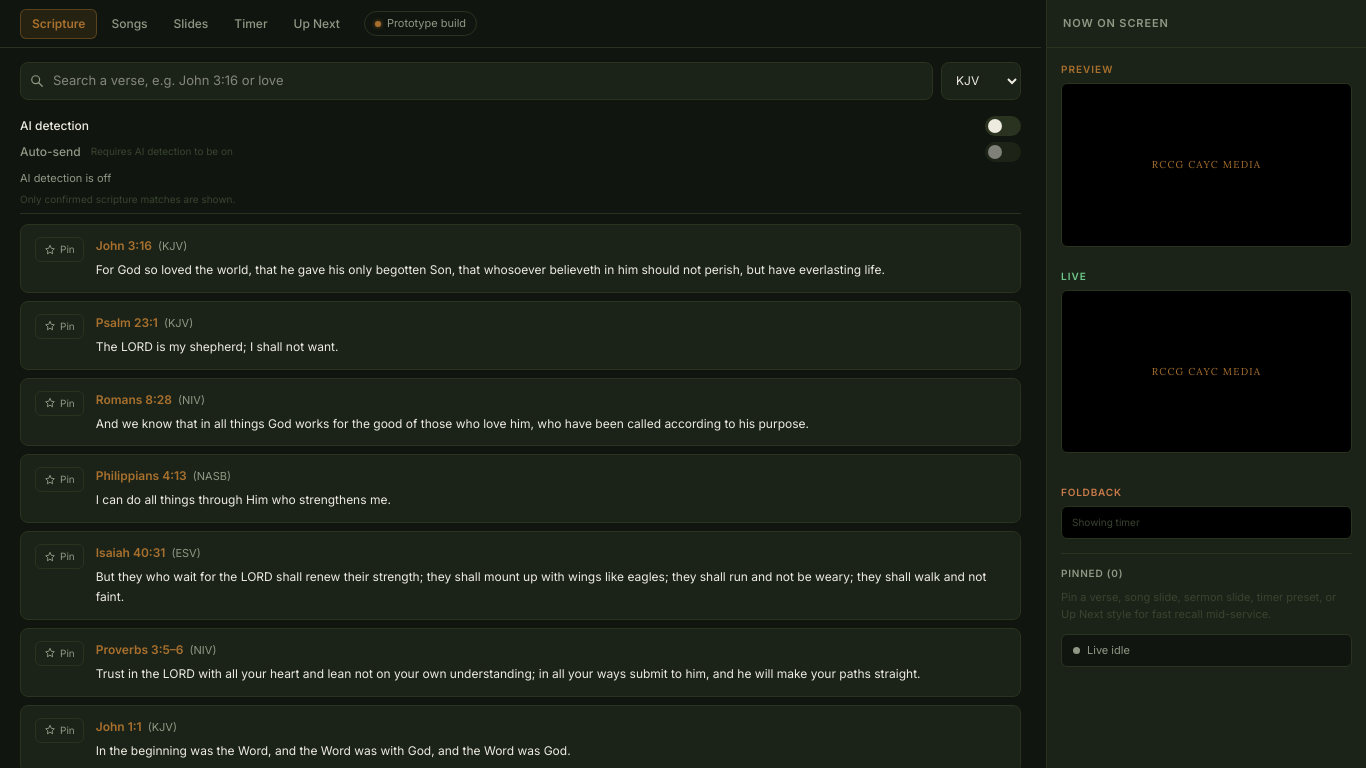
Scenario: OperatorScreen Scripture integration (real component, not just the hook) › keyword search surfaces results from imported Scripture Engine data, not just the old hardcoded sample list
Type "operator test verse three" into the field with placeholder "Search a verse, e.g. John 3:16 or love" at [476, 81], box top-left (20, 62), bottom-right (933, 100)
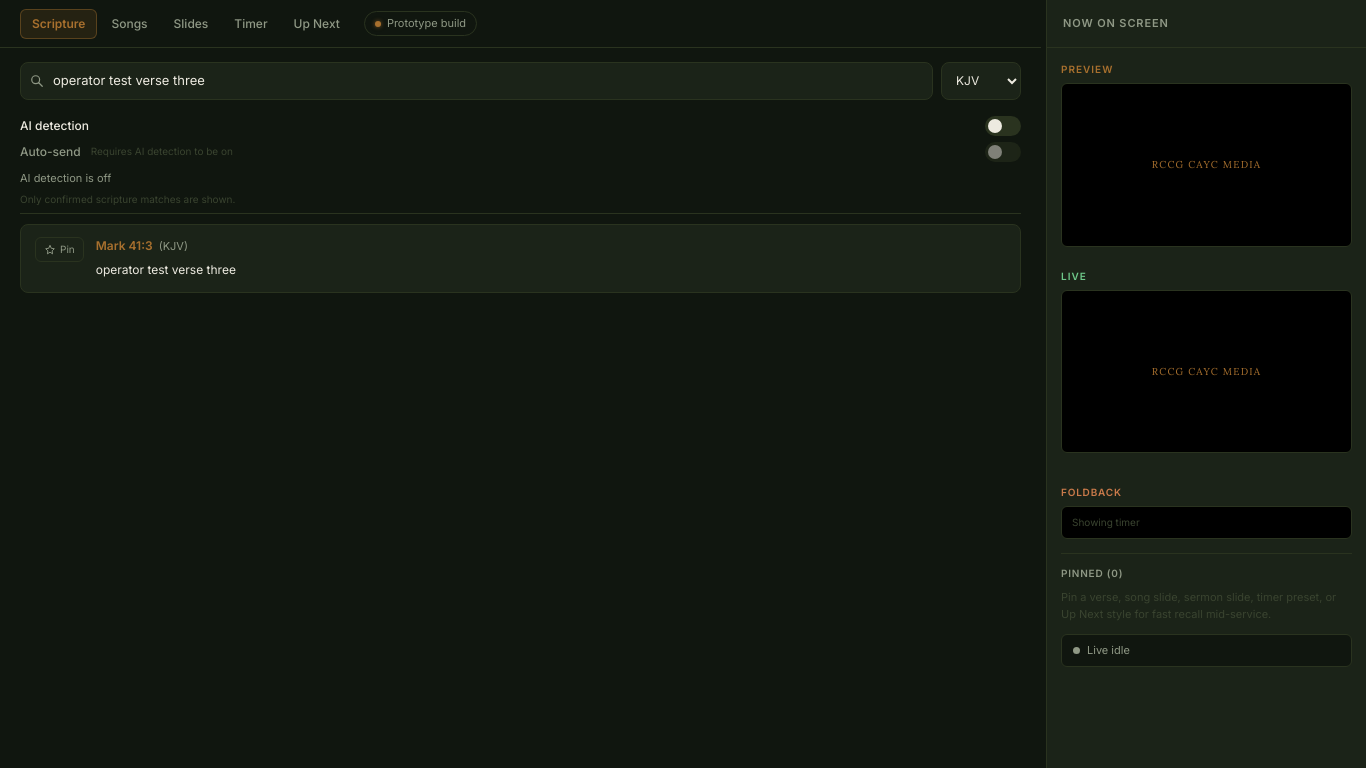
Check: the text "operator test verse three" is shown, box top-left (96, 262), bottom-right (236, 277)
